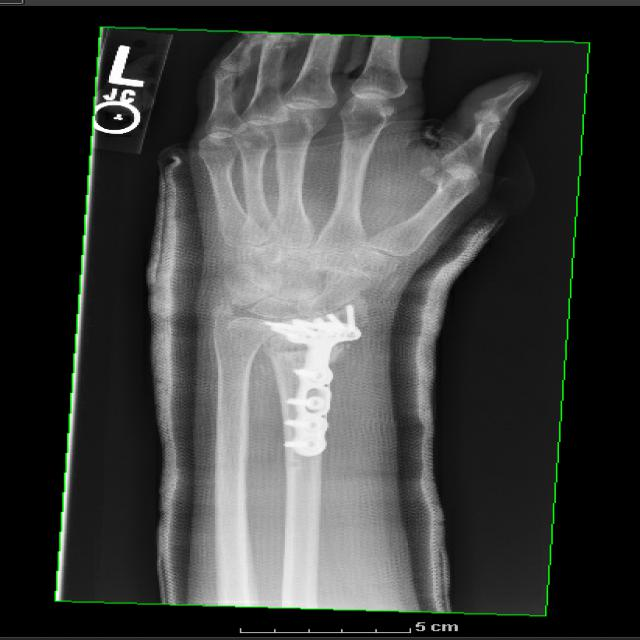x-ray: (258, 300, 378, 464)
